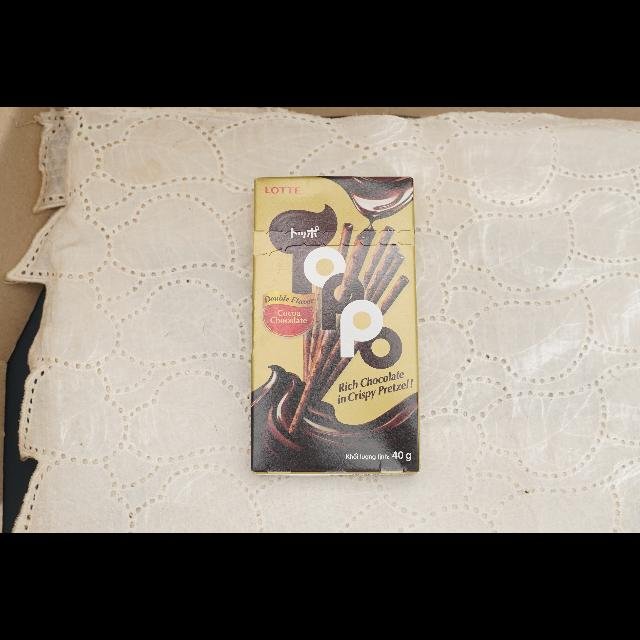banh_toppo_socola: (251, 176, 419, 475)
